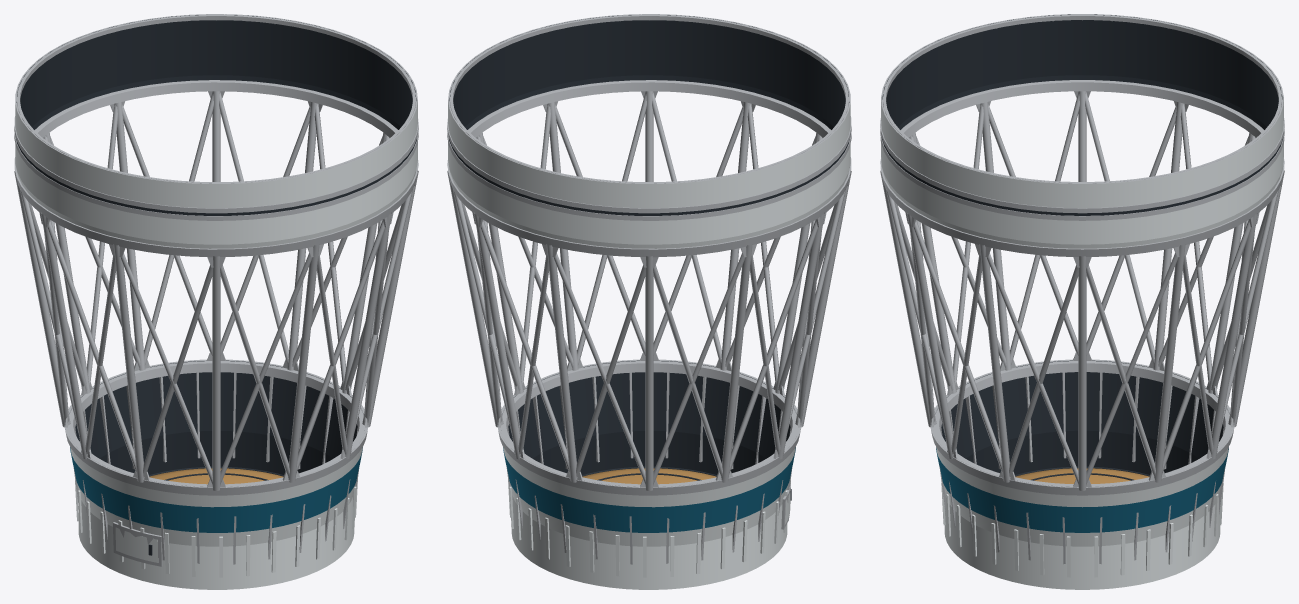
The model's file is interstage_hot_staging_d37_to_d54.fbx.
3 views of the same model, side by side, from view 1: azimuth 30°, elevation 25°; view 2: azimuth 150°, elevation 25°; view 3: azimuth 270°, elevation 25° (orthographic).
Visible parts, largest first — view 1: interstage_hot_staging_d37_to_d54_LOD0; view 2: interstage_hot_staging_d37_to_d54_LOD0; view 3: interstage_hot_staging_d37_to_d54_LOD0.
Boxes of the visible parts, <box> form: interstage_hot_staging_d37_to_d54_LOD0: <box>14,14,418,589</box>; interstage_hot_staging_d37_to_d54_LOD0: <box>447,14,851,589</box>; interstage_hot_staging_d37_to_d54_LOD0: <box>880,14,1284,589</box>.
Size of what is drawn, in the model's own units: 5.42 by 6.4 by 5.42.
